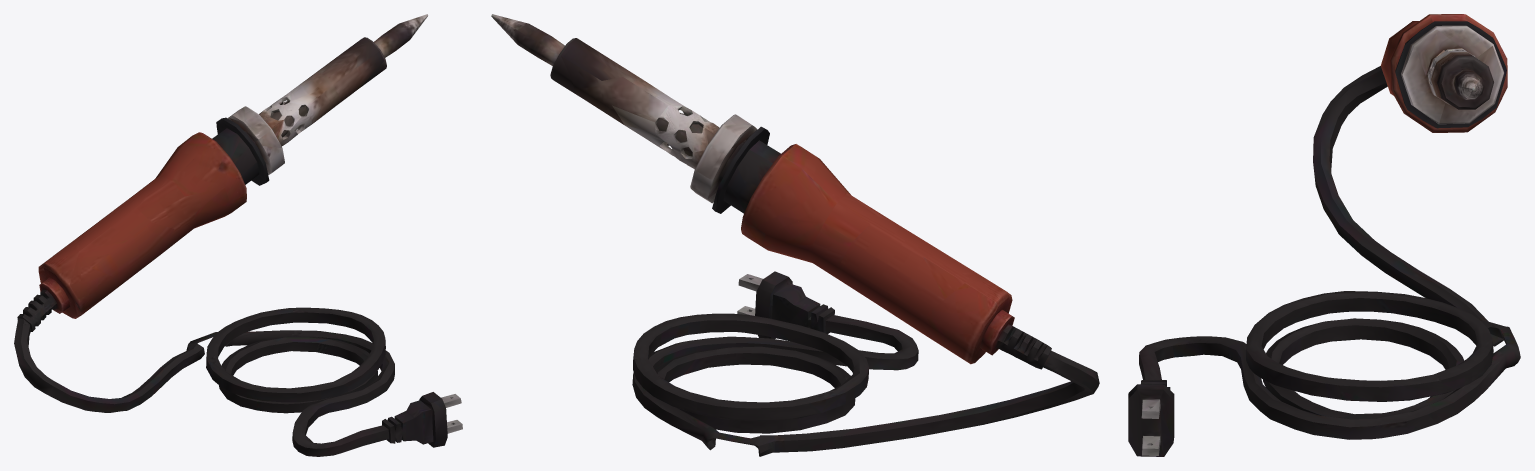
Rendered from tool_soldering_setevoy_idle.glb.
3 views of the same model, side by side, from view 1: azimuth 30°, elevation 25°; view 2: azimuth 150°, elevation 25°; view 3: azimuth 270°, elevation 25° (orthographic). The views are drawn at different scales.
Visible parts, largest first — view 1: tripo_node_148a8617-2260-4da9-9dd1-d0efd031a570; view 2: tripo_node_148a8617-2260-4da9-9dd1-d0efd031a570; view 3: tripo_node_148a8617-2260-4da9-9dd1-d0efd031a570.
Part boxes in pixels (x1,y1,x2,y2): tripo_node_148a8617-2260-4da9-9dd1-d0efd031a570: [14, 14, 462, 456]; tripo_node_148a8617-2260-4da9-9dd1-d0efd031a570: [491, 14, 1099, 456]; tripo_node_148a8617-2260-4da9-9dd1-d0efd031a570: [1128, 14, 1520, 456].
Size of the model in its own units: 0.2499 by 0.1695 by 0.1373.
1 material, 1 textured.
